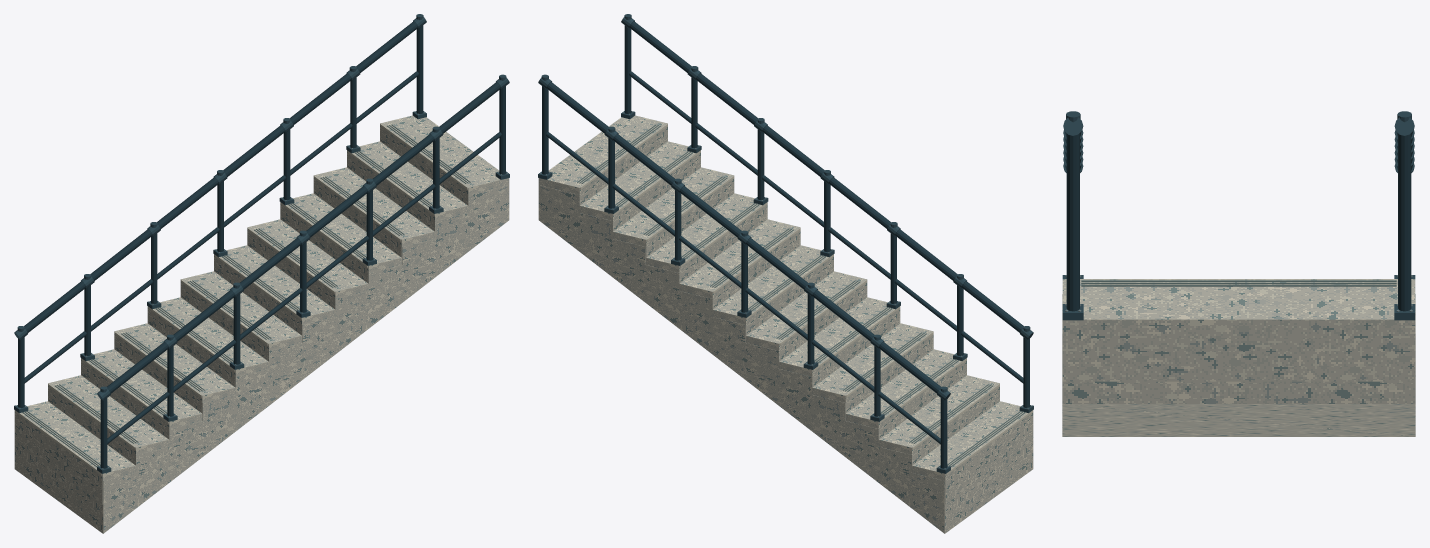
Rendered from lower_rotating_stair.glb.
The picture shows the model from 3 angles, left to right: view 1: azimuth 30°, elevation 25°; view 2: azimuth 150°, elevation 25°; view 3: azimuth 270°, elevation 25°; orthographic projection. The views are drawn at different scales.
Parts seen in each view (by area): view 1: b_lower_stair, Closed stone side and underside, Continuous upper rail -1, Continuous upper rail 1, Continuous lower rail -1, Continuous lower rail 1, Round post -1 06, Round post 1 06; view 2: b_lower_stair, Closed stone side and underside, Continuous upper rail 1, Continuous upper rail -1, Continuous lower rail 1, Continuous lower rail -1, Round post 1 06, Round post -1 06; view 3: b_lower_stair, Closed stone side and underside, Round post -1 06, Round post 1 06, Anti-slip 11 1, Anti-slip 11 0, Anti-slip 11 2.
Part boxes in pixels (bbox=[...]): b_lower_stair: bbox=[14, 115, 509, 504]; Closed stone side and underside: bbox=[14, 185, 509, 533]; Continuous upper rail -1: bbox=[24, 21, 418, 332]; Continuous upper rail 1: bbox=[107, 82, 501, 393]; Continuous lower rail -1: bbox=[24, 71, 418, 383]; Continuous lower rail 1: bbox=[107, 132, 501, 443]; Round post -1 06: bbox=[416, 25, 423, 113]; Round post 1 06: bbox=[499, 86, 505, 174]; b_lower_stair: bbox=[538, 115, 1033, 504]; Closed stone side and underside: bbox=[538, 185, 1033, 533]; Continuous upper rail 1: bbox=[629, 21, 1023, 332]; Continuous upper rail -1: bbox=[546, 82, 940, 393]; Continuous lower rail 1: bbox=[629, 71, 1023, 383]; Continuous lower rail -1: bbox=[546, 132, 940, 443]; Round post 1 06: bbox=[624, 25, 631, 113]; Round post -1 06: bbox=[542, 86, 548, 174]; b_lower_stair: bbox=[1062, 279, 1415, 381]; Closed stone side and underside: bbox=[1062, 294, 1415, 436]; Round post -1 06: bbox=[1398, 133, 1411, 311]; Round post 1 06: bbox=[1066, 133, 1079, 311]; Anti-slip 11 1: bbox=[1081, 282, 1396, 284]; Anti-slip 11 0: bbox=[1081, 280, 1396, 281]; Anti-slip 11 2: bbox=[1081, 285, 1396, 286].
Size of the model in its own units: 3.6 by 3 by 1.34.
Materials: 6 (1 with a texture image).
